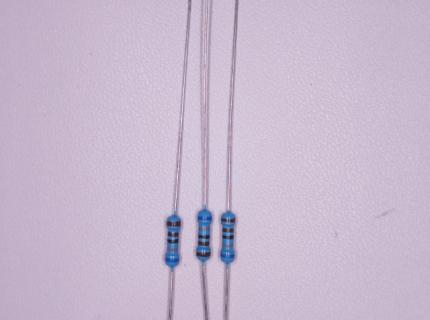Black band: (167, 238, 179, 244), (222, 235, 234, 240), (198, 234, 210, 239)
Blue band: (197, 216, 212, 221), (220, 253, 235, 258), (165, 258, 180, 262)
Brown band: (166, 221, 181, 227), (221, 217, 236, 223), (196, 252, 211, 257), (167, 232, 179, 237), (198, 241, 210, 246), (222, 228, 234, 232)
Grey band: (222, 243, 234, 248), (198, 227, 210, 231), (167, 247, 178, 251)
